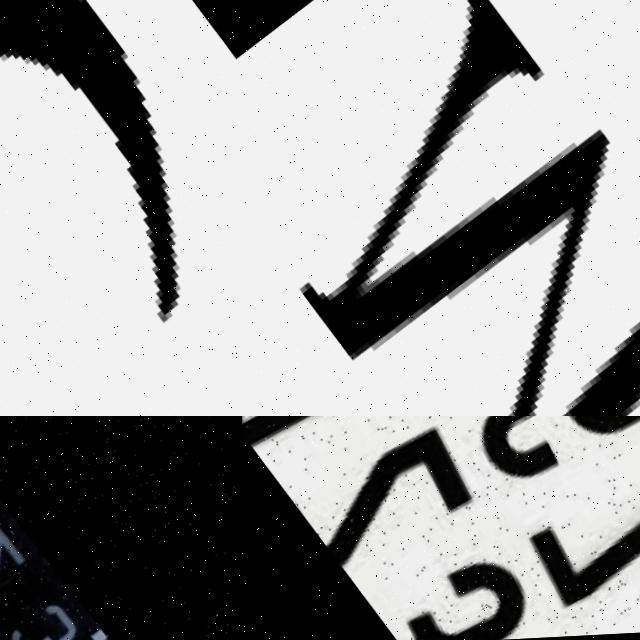1: (237, 416, 417, 478)
2: (275, 416, 493, 598), (0, 519, 29, 606)
3: (357, 505, 552, 640), (0, 592, 82, 640)
6: (439, 416, 640, 534)
7: (506, 416, 640, 640)
M: (236, 0, 640, 416)
